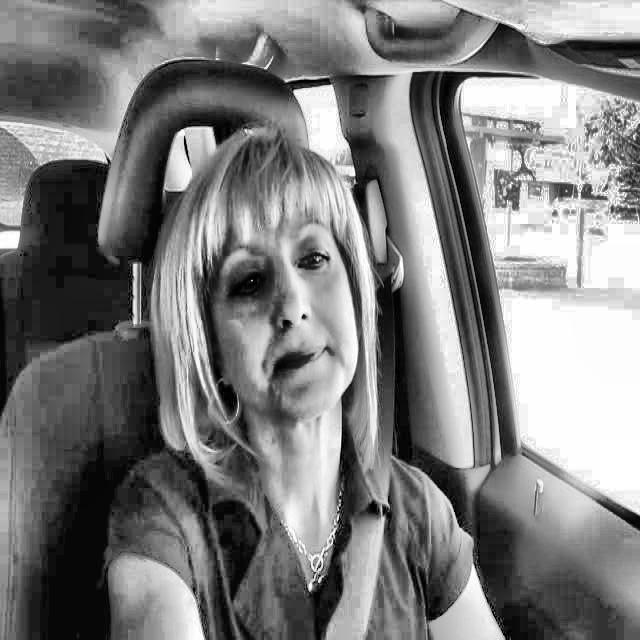closed_mouth: (251, 333, 360, 390)
open_eyes: (220, 261, 276, 307), (286, 234, 340, 281)
